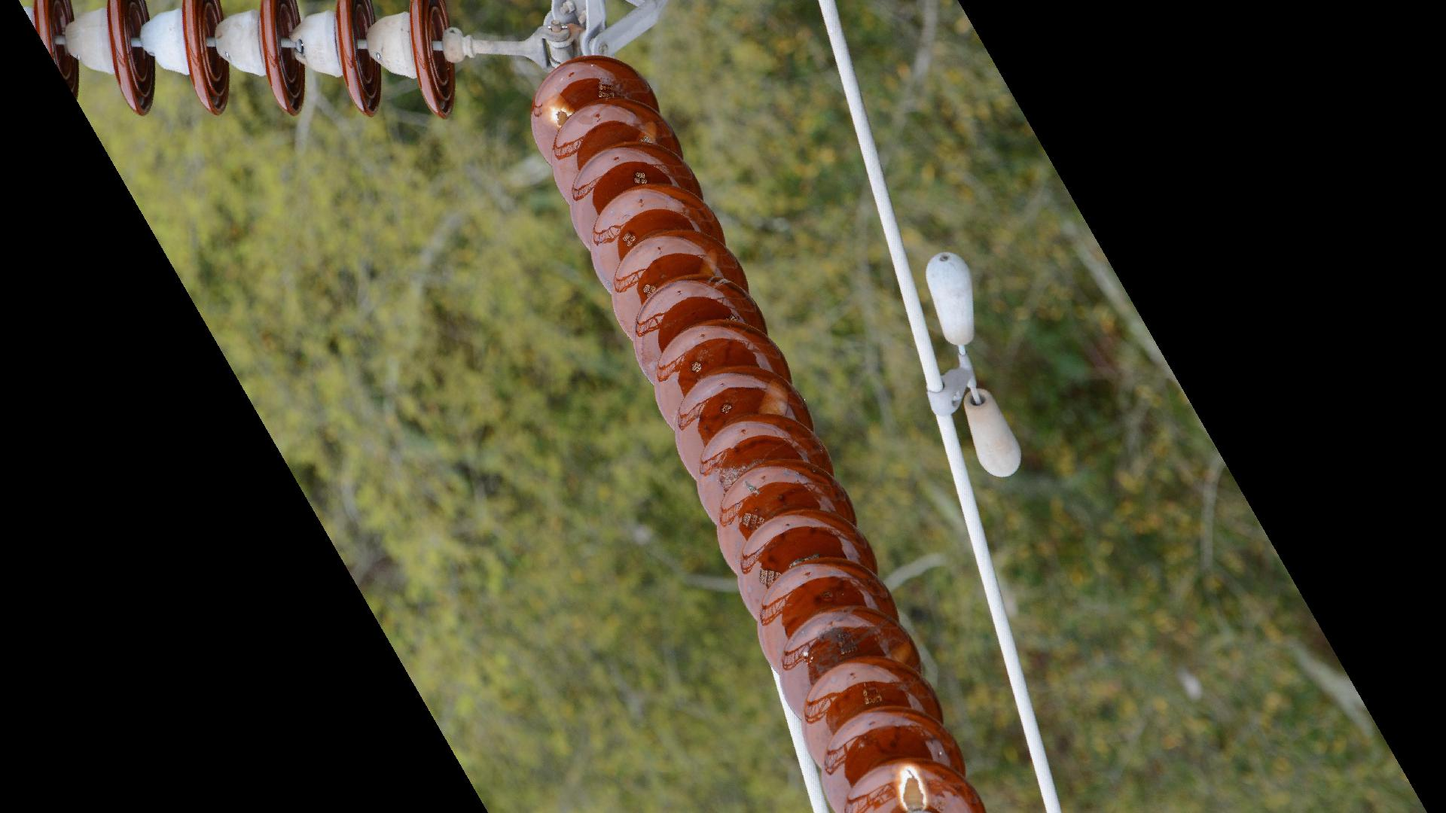insulator: (523, 53, 984, 813), (26, 1, 462, 128)
insulator_flashover: (893, 761, 931, 813), (755, 375, 792, 418), (539, 90, 576, 131), (694, 244, 724, 279)
